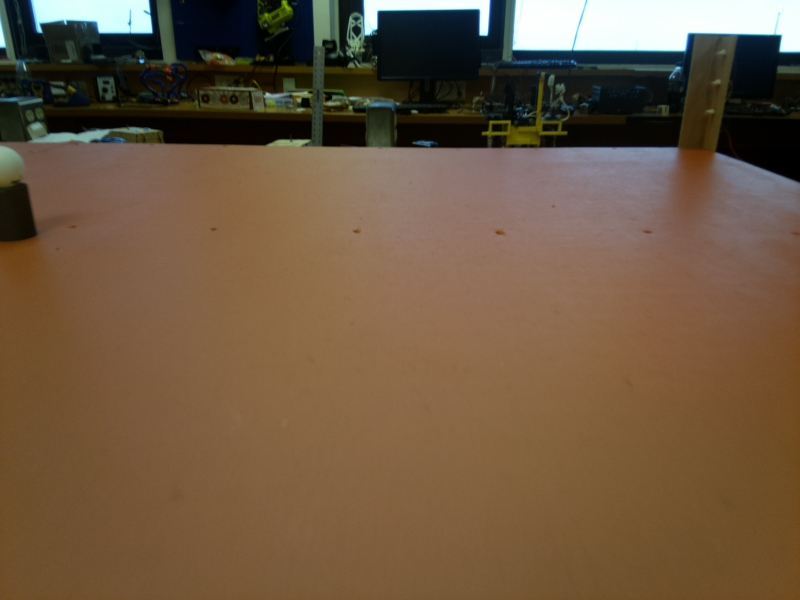corner: (686, 35, 723, 150)
obstacle: (1, 143, 33, 232)
